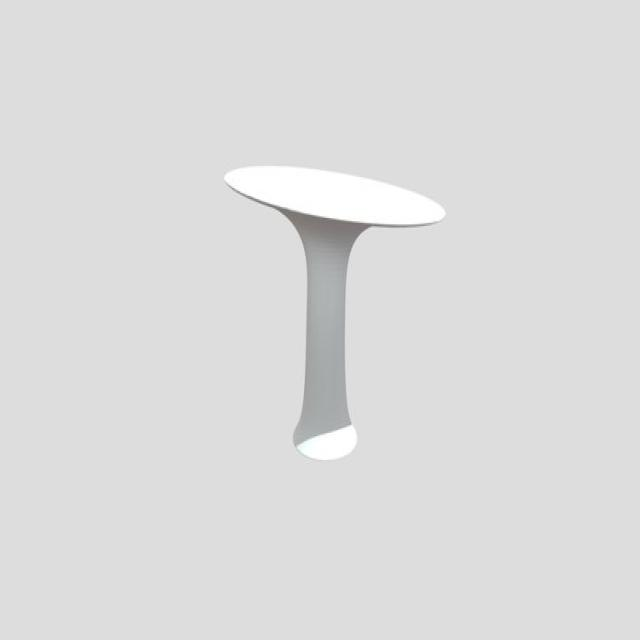table: (225, 161, 446, 461)
